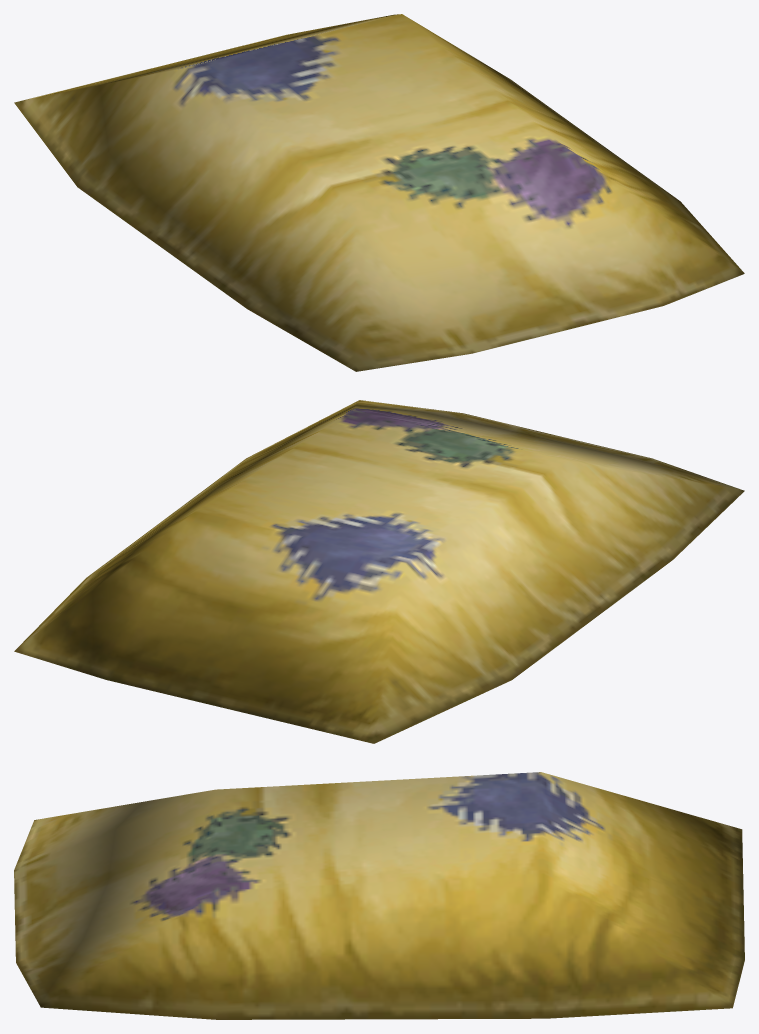
Rendered from taurensack03.obj.
3 renders of one model, top to bottom at view 1: azimuth 30°, elevation 25°; view 2: azimuth 150°, elevation 25°; view 3: azimuth 270°, elevation 25°, orthographic. The views are drawn at different scales.
Visible parts, largest first — view 1: taurensack03; view 2: taurensack03; view 3: taurensack03.
Boxes of the visible parts, <box> form: taurensack03: <box>14,14,744,371</box>; taurensack03: <box>14,400,744,743</box>; taurensack03: <box>14,772,744,1019</box>.
Bounding box in the file's own units: 1.29 × 0.353 × 1.91.
1 material, 1 textured.
